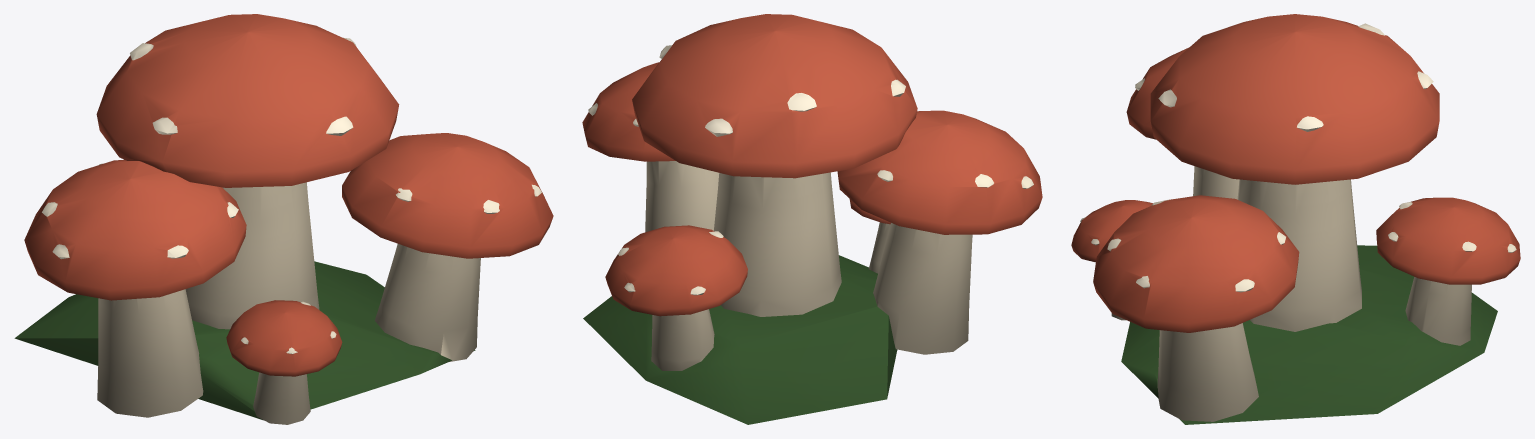
The model's file is mushrooms_red.glb.
The picture shows the model from 3 angles, left to right: view 1: azimuth 30°, elevation 25°; view 2: azimuth 150°, elevation 25°; view 3: azimuth 270°, elevation 25°; orthographic projection. The views are drawn at different scales.
Parts seen in each view (by area): view 1: Item; view 2: Item; view 3: Item.
Part boxes in pixels (x1,y1,x2,y2): Item: [14, 14, 553, 424]; Item: [582, 14, 1042, 424]; Item: [1071, 14, 1520, 424].
Size of the model in its own units: 1.24 by 0.7976 by 1.03.
3 materials, 3 textured.
